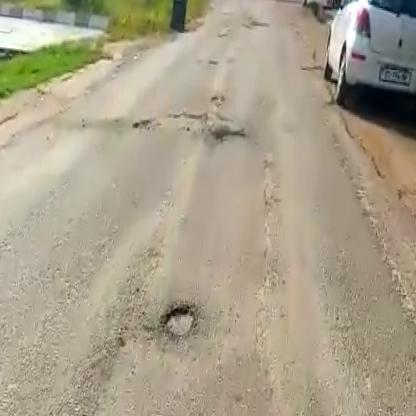pothole: (131, 105, 207, 141), (157, 296, 202, 344), (208, 121, 248, 145)
